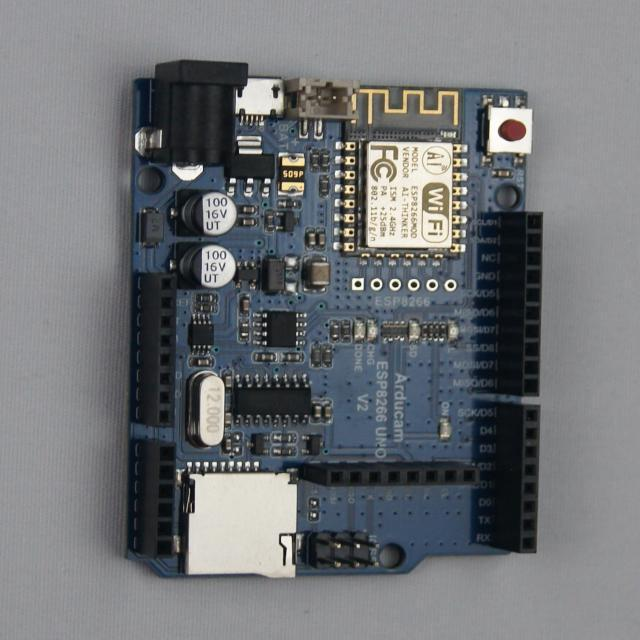Arduino Uno Camera Shield: (129, 62, 543, 578)
